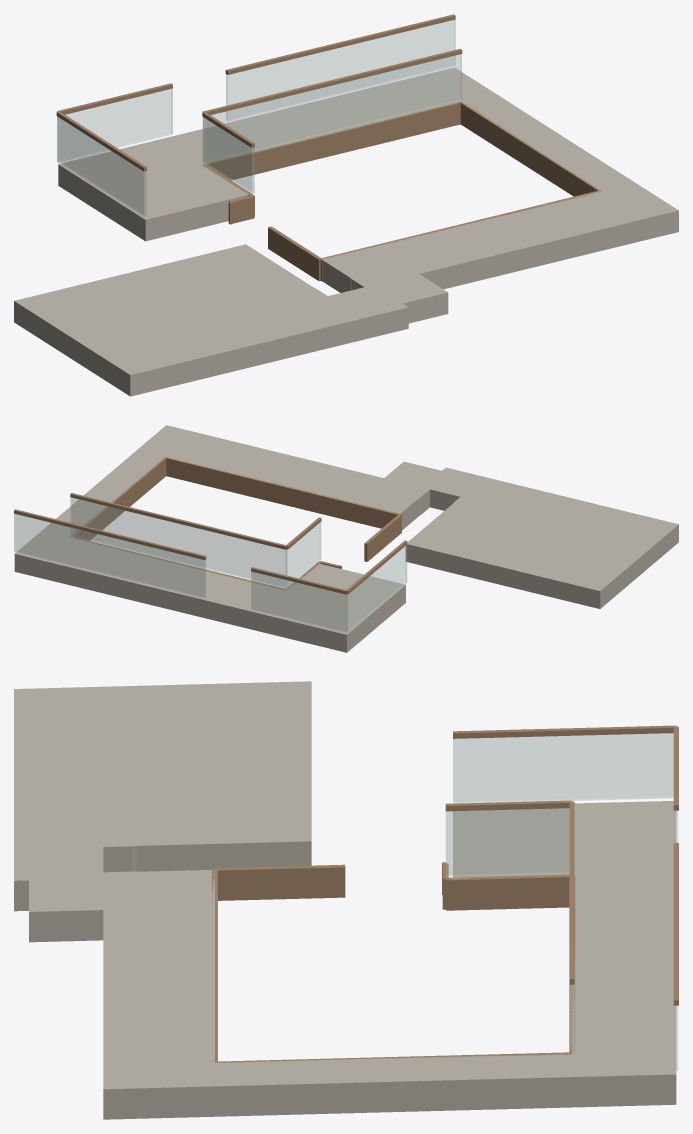
The model's file is PERIMETER_795_r002.glb.
3 renders of one model, top to bottom at view 1: azimuth 30°, elevation 25°; view 2: azimuth 150°, elevation 25°; view 3: azimuth 270°, elevation 25°, orthographic. The views are drawn at different scales.
Parts seen in each view (by area): view 1: G2P_795_TERRACE_r002, G2P_795_RearGuardGlass_0, G2P_795_OuterGuard_2, G2P_795_PitEdge_2_0, G2P_795_OuterGuard_1, G2P_795_OuterGuard_0, G2P_795_PitEdge_1_0, G2P_795_RearGuardGlass_1, G2P_795_RearGuardRail_0, G2P_795_OuterRail_2, G2P_795_PitEdge_5_0, G2P_795_PitEdge_0_0 (+2 smaller); view 2: G2P_795_TERRACE_r002, G2P_795_RearGuardGlass_0, G2P_795_OuterGuard_2, G2P_795_PitEdge_0_0, G2P_795_OuterGuard_1, G2P_795_OuterGuard_0, G2P_795_PitEdge_1_0, G2P_795_RearGuardGlass_1, G2P_795_RearGuardRail_0, G2P_795_OuterRail_2, G2P_795_PitEdge_5_0, G2P_795_OuterRail_1 (+2 smaller); view 3: G2P_795_TERRACE_r002, G2P_795_OuterGuard_0, G2P_795_RearGuardGlass_1, G2P_795_PitEdge_5_0, G2P_795_PitEdge_3_0, G2P_795_OuterRail_0, G2P_795_RearGuardRail_0, G2P_795_RearGuardRail_1, G2P_795_OuterRail_2, G2P_795_PitEdge_1_0, G2P_795_PitEdge_2_0.
Part boxes in pixels (left/top/right/bottom): G2P_795_TERRACE_r002: left=14, top=67, right=678, bottom=396; G2P_795_RearGuardGlass_0: left=203, top=54, right=461, bottom=162; G2P_795_OuterGuard_2: left=226, top=20, right=455, bottom=120; G2P_795_PitEdge_2_0: left=203, top=102, right=460, bottom=180; G2P_795_OuterGuard_1: left=57, top=88, right=172, bottom=161; G2P_795_OuterGuard_0: left=57, top=116, right=146, bottom=217; G2P_795_PitEdge_1_0: left=460, top=102, right=599, bottom=196; G2P_795_RearGuardGlass_1: left=203, top=117, right=254, bottom=193; G2P_795_RearGuardRail_0: left=203, top=48, right=462, bottom=114; G2P_795_OuterRail_2: left=225, top=14, right=455, bottom=74; G2P_795_PitEdge_5_0: left=268, top=226, right=321, bottom=281; G2P_795_PitEdge_0_0: left=320, top=190, right=601, bottom=281; G2P_795_TERRACE_r002: left=14, top=425, right=678, bottom=652; G2P_795_RearGuardGlass_0: left=70, top=497, right=286, bottom=587; G2P_795_OuterGuard_2: left=14, top=514, right=205, bottom=598; G2P_795_PitEdge_0_0: left=165, top=456, right=401, bottom=528; G2P_795_OuterGuard_1: left=251, top=572, right=347, bottom=632; G2P_795_OuterGuard_0: left=346, top=545, right=406, bottom=632; G2P_795_PitEdge_1_0: left=70, top=457, right=166, bottom=540; G2P_795_RearGuardGlass_1: left=286, top=522, right=320, bottom=587; G2P_795_RearGuardRail_0: left=70, top=493, right=286, bottom=549; G2P_795_OuterRail_2: left=14, top=509, right=206, bottom=559; G2P_795_PitEdge_5_0: left=364, top=514, right=401, bottom=561; G2P_795_OuterRail_1: left=251, top=567, right=346, bottom=594; G2P_795_TERRACE_r002: left=14, top=681, right=676, bottom=1119; G2P_795_OuterGuard_0: left=453, top=733, right=673, bottom=803; G2P_795_RearGuardGlass_1: left=446, top=808, right=569, bottom=876; G2P_795_PitEdge_5_0: left=215, top=864, right=345, bottom=900; G2P_795_PitEdge_3_0: left=445, top=874, right=569, bottom=910; G2P_795_OuterRail_0: left=453, top=725, right=676, bottom=738; G2P_795_RearGuardRail_0: left=569, top=801, right=574, bottom=984; G2P_795_RearGuardRail_1: left=445, top=800, right=572, bottom=811; G2P_795_OuterRail_2: left=673, top=843, right=678, bottom=1005; G2P_795_PitEdge_1_0: left=215, top=1052, right=572, bottom=1062; G2P_795_PitEdge_2_0: left=569, top=876, right=575, bottom=1052.
Size of the model in its own units: 12.97 by 1.55 by 8.93.
